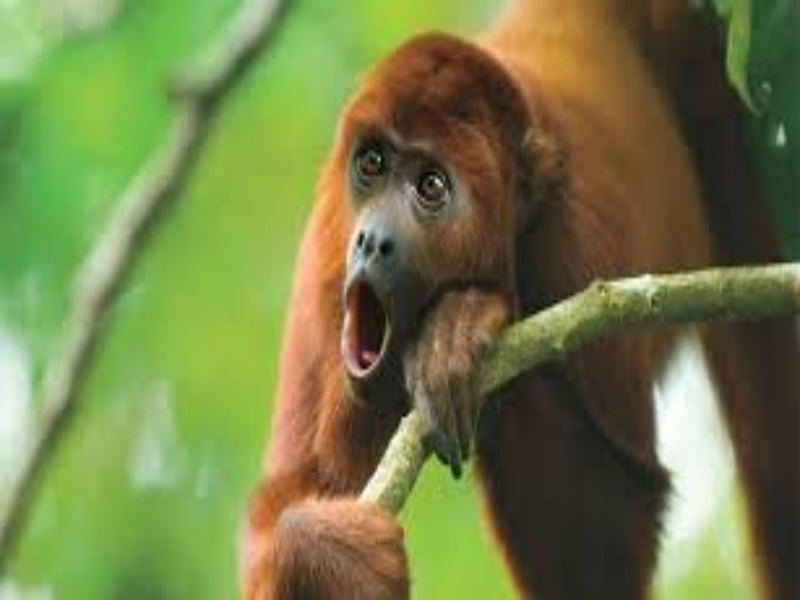monkey: (229, 35, 641, 473)
